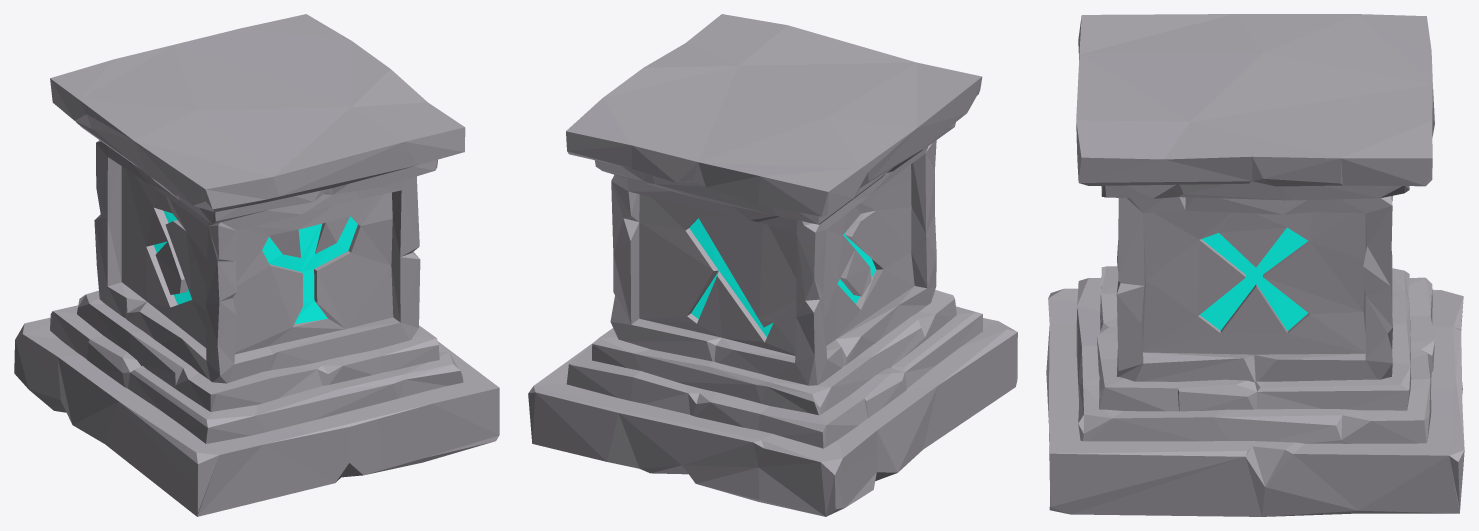
The model's file is daily-pedestal.glb.
3 views of the same model, side by side, from view 1: azimuth 30°, elevation 25°; view 2: azimuth 150°, elevation 25°; view 3: azimuth 270°, elevation 25° (orthographic). The views are drawn at different scales.
Visible parts, largest first — view 1: Pedestal_01; view 2: Pedestal_01; view 3: Pedestal_01.
Boxes of the visible parts, bbox=[...] form: Pedestal_01: bbox=[14, 14, 499, 516]; Pedestal_01: bbox=[528, 14, 1017, 516]; Pedestal_01: bbox=[1046, 14, 1464, 516].
Size of what is drawn, in the model's own units: 2.83 by 2.77 by 2.97.
Materials: 2 (1 with a texture image).
